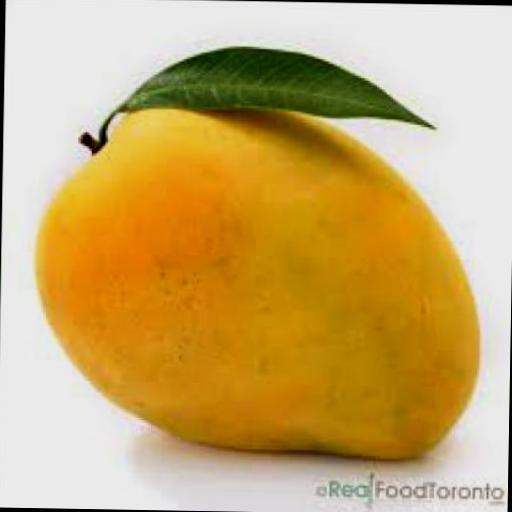biodegradable: (28, 82, 478, 460), (107, 40, 436, 126)
